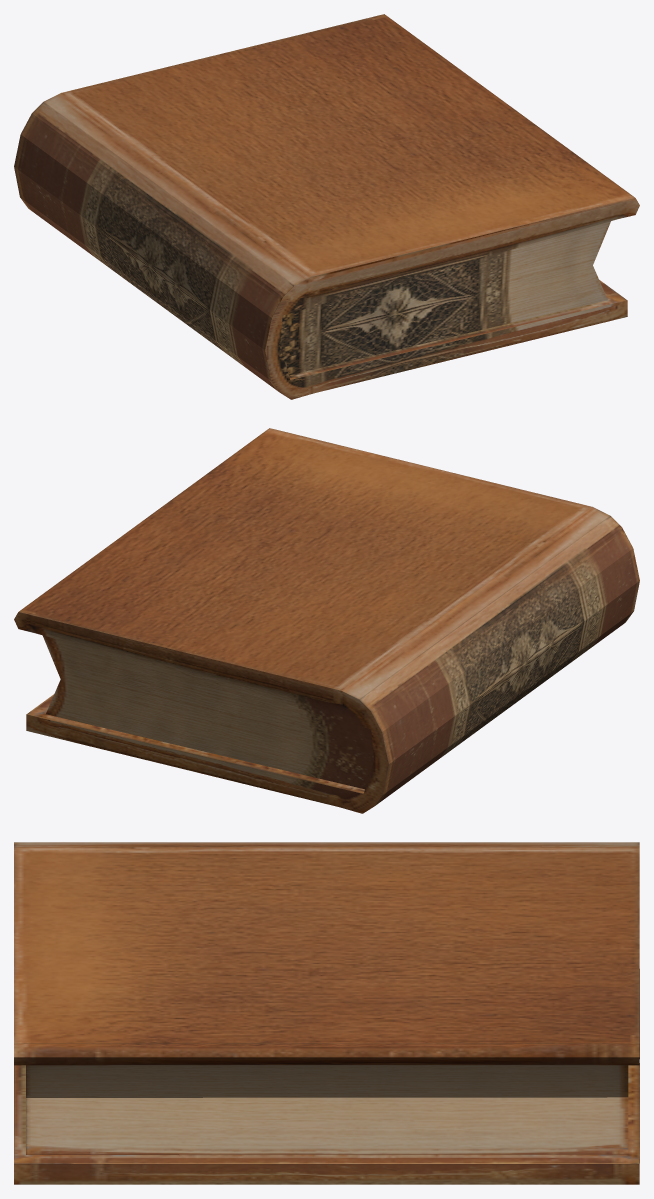
Rendered from Book_01.fbx.
The picture shows the model from 3 angles, top to bottom: view 1: azimuth 30°, elevation 25°; view 2: azimuth 150°, elevation 25°; view 3: azimuth 270°, elevation 25°; orthographic projection. The views are drawn at different scales.
Visible parts, largest first — view 1: Book_01; view 2: Book_01; view 3: Book_01.
Boxes of the visible parts, x1,y1,x2,y2 form: Book_01: (14,14,639,399); Book_01: (14,428,639,813); Book_01: (14,842,639,1184).
Bounding box in the file's own units: 0.338 × 0.1017 × 0.3926.
